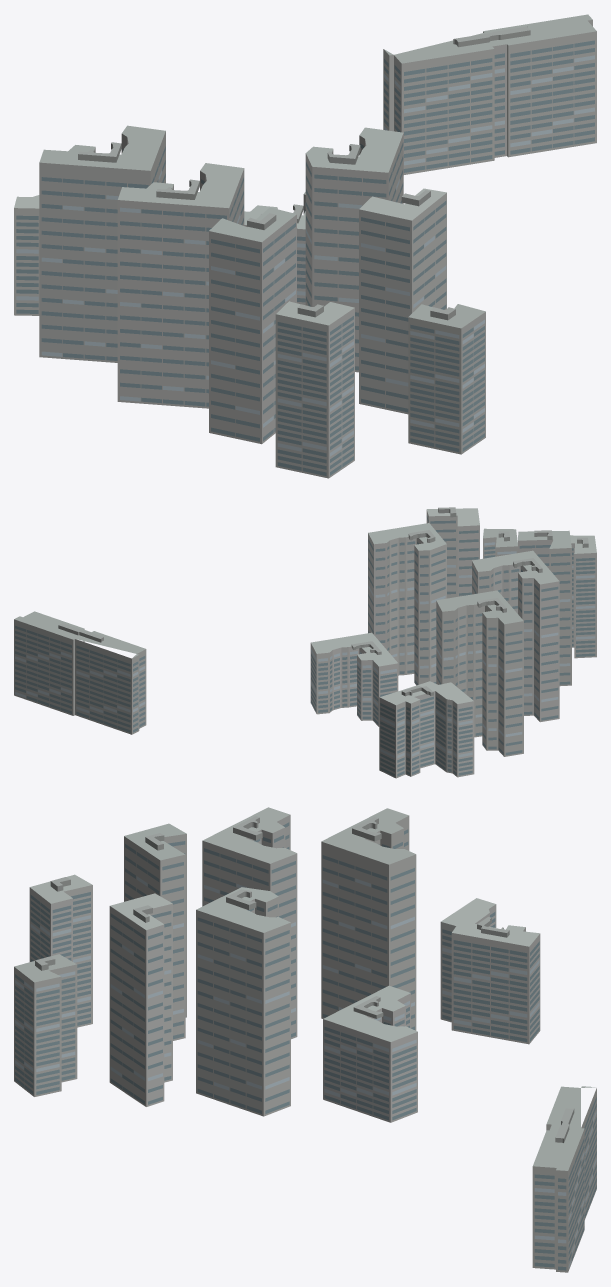
The model's file is apt-a10024547.glb.
3 renders of one model, top to bottom at view 1: azimuth 30°, elevation 25°; view 2: azimuth 150°, elevation 25°; view 3: azimuth 270°, elevation 25°, orthographic. The views are drawn at different scales.
Parts seen in each view (by area): view 1: apt-a10024547; view 2: apt-a10024547; view 3: apt-a10024547.
Boxes of the visible parts, left/top/right/bottom form: apt-a10024547: left=14, top=14, right=596, bottom=478; apt-a10024547: left=14, top=507, right=596, bottom=778; apt-a10024547: left=14, top=807, right=596, bottom=1272.
Bounding box in the file's own units: 277 × 85 × 238.
